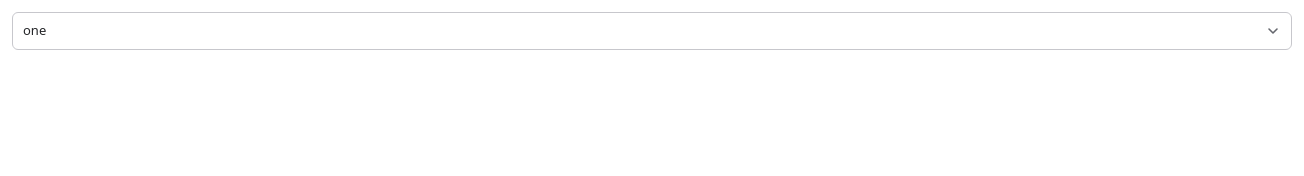
Test case: CustomSelect › supports keyboard selection and Escape dismissal
Step 1. Click the dropdown named "模型" → [35, 30], box [12,12,1292,50]
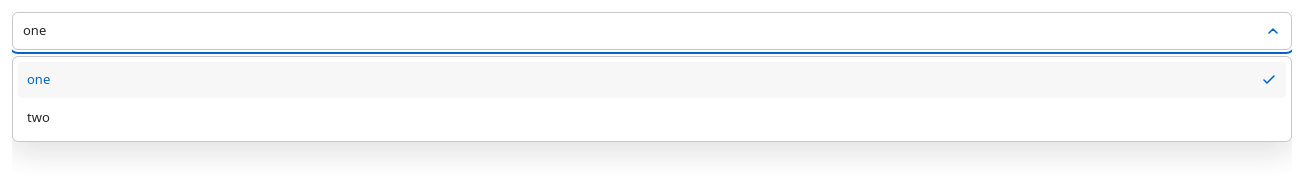
Step 2. Press Arrowdown Enter
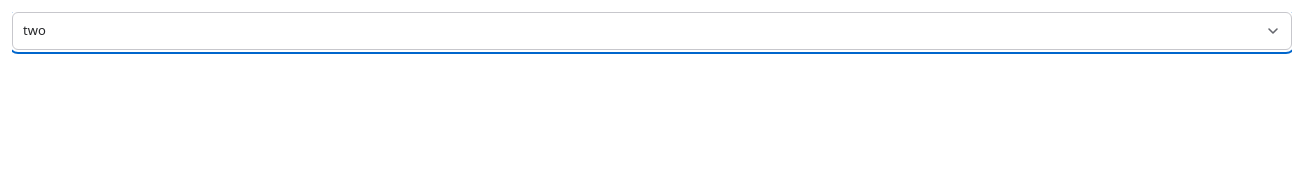
expect the dropdown named "模型" reads "two": met
Step 3. Click the dropdown named "模型" → [34, 30], box [12,12,1292,50]
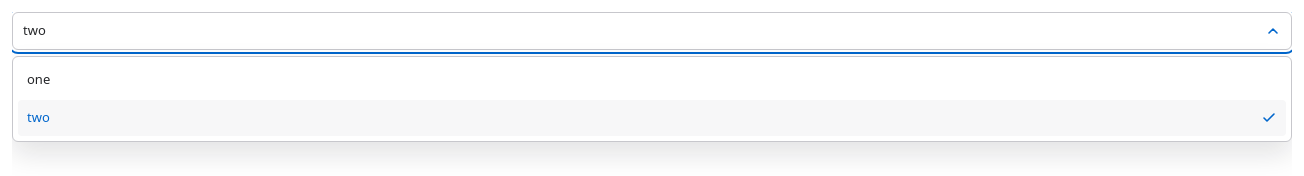
Step 4. Press Escape
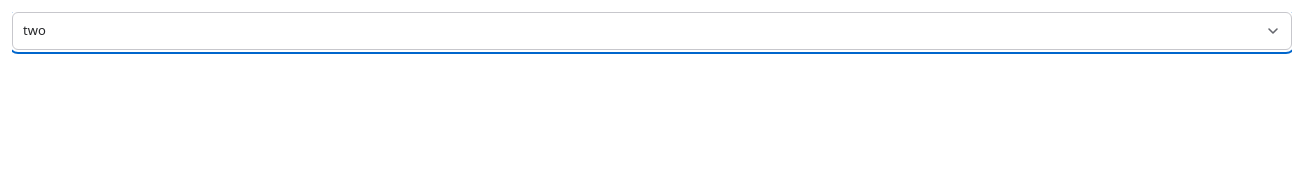
expect the list "one two" is gone: met
